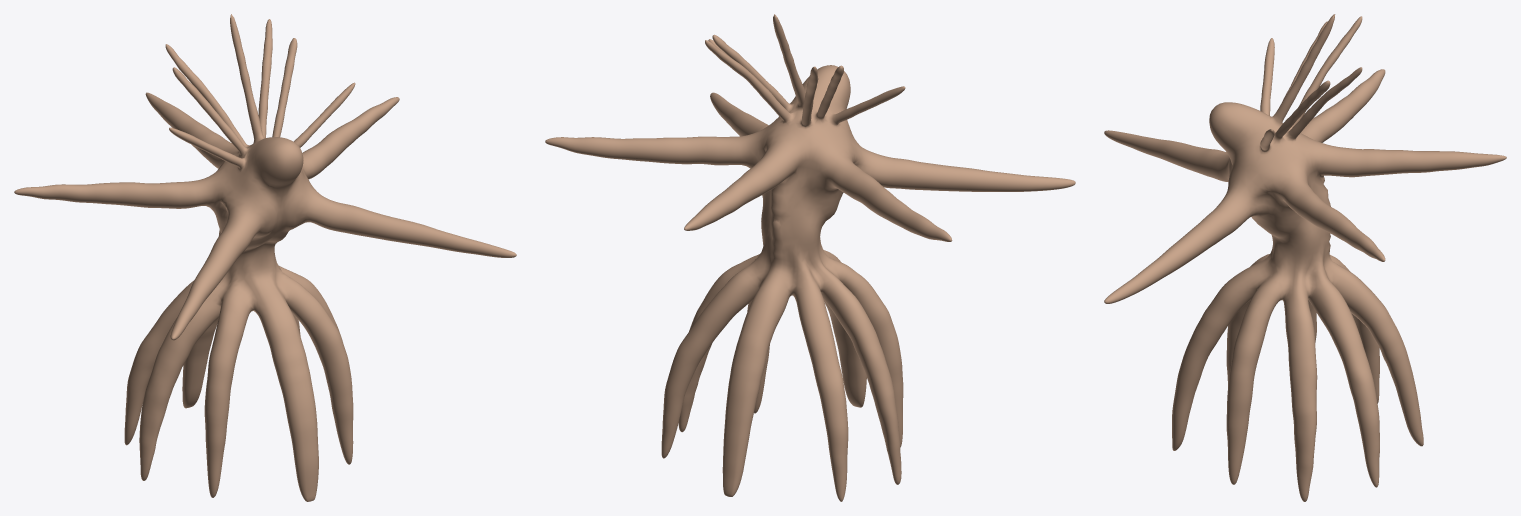
File: creature_v1.fbx
The picture shows the model from 3 angles, left to right: view 1: azimuth 30°, elevation 25°; view 2: azimuth 150°, elevation 25°; view 3: azimuth 270°, elevation 25°; orthographic projection. The views are drawn at different scales.
Visible parts, largest first — view 1: Group63746_0; view 2: Group63746_0; view 3: Group63746_0.
Boxes of the visible parts, x1,y1,x2,y2 form: Group63746_0: (14, 14, 516, 501); Group63746_0: (545, 14, 1075, 501); Group63746_0: (1104, 14, 1506, 501).
Size of the model in its own units: 42.67 by 45.68 by 38.13.
